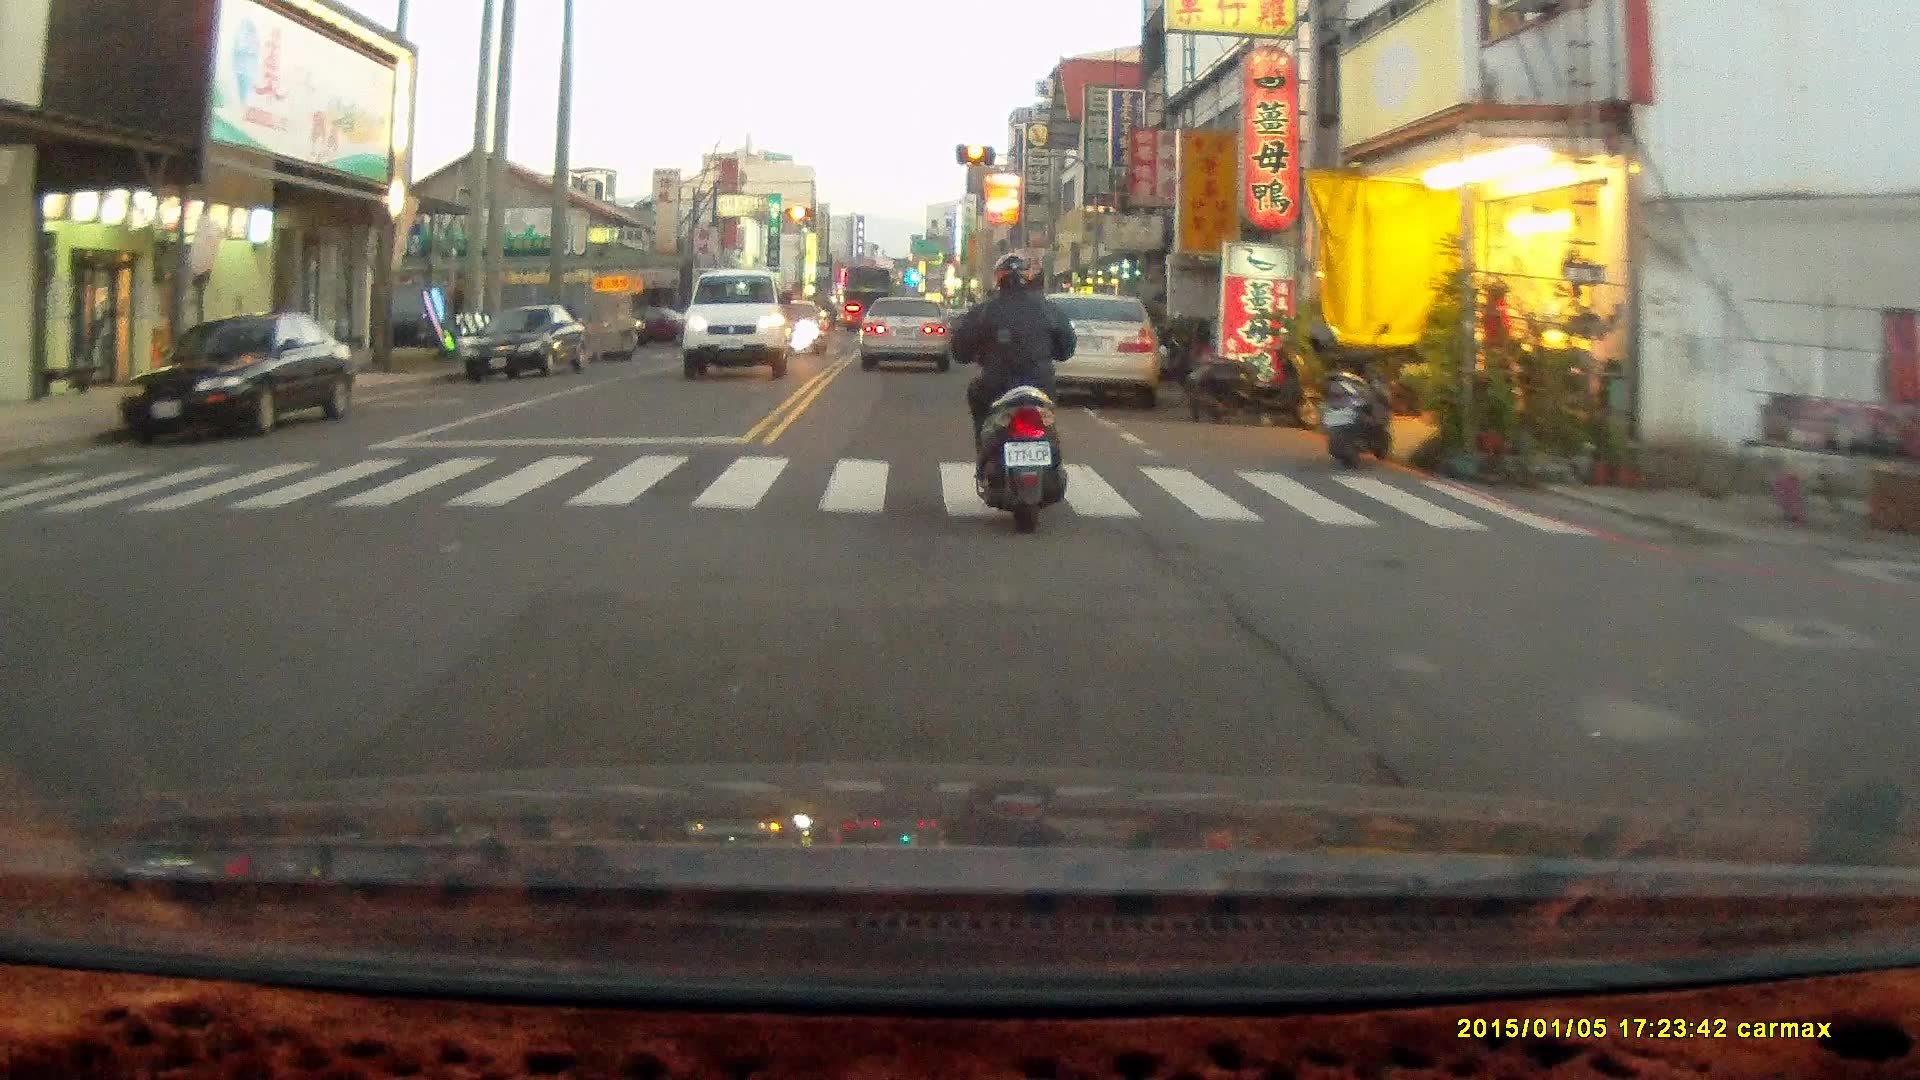pedestrian: (1478, 281, 1514, 402)
rider: (949, 249, 1079, 531)
vehicle: (110, 312, 355, 441), (1025, 291, 1165, 409), (681, 267, 793, 381), (465, 303, 586, 386), (859, 290, 956, 366)
